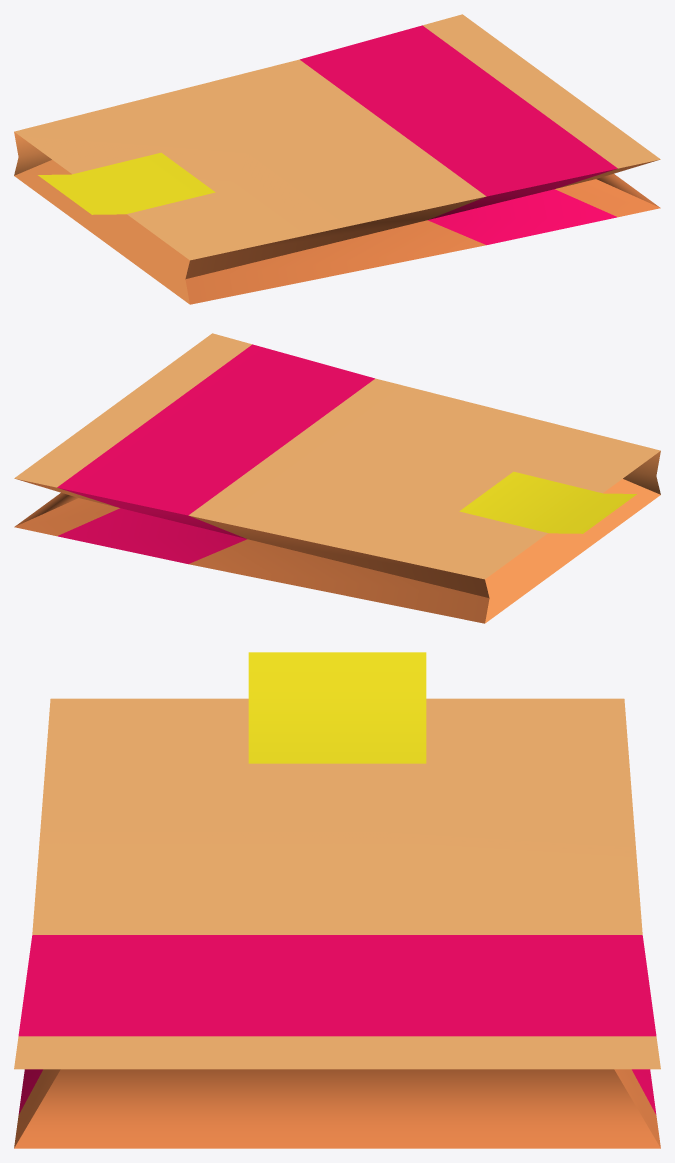
File: PaperBag_geo.fbx
3 views of the same model, one above another, from view 1: azimuth 30°, elevation 25°; view 2: azimuth 150°, elevation 25°; view 3: azimuth 270°, elevation 25° (orthographic). The views are drawn at different scales.
Visible parts, largest first — view 1: PaperBag_geo; view 2: PaperBag_geo; view 3: PaperBag_geo.
Boxes of the visible parts, x1,y1,x2,y2 form: PaperBag_geo: [14, 14, 660, 304]; PaperBag_geo: [14, 333, 660, 623]; PaperBag_geo: [14, 652, 660, 1148].
Size of the model in its own units: 0.869 by 0.6007 by 0.1034.
